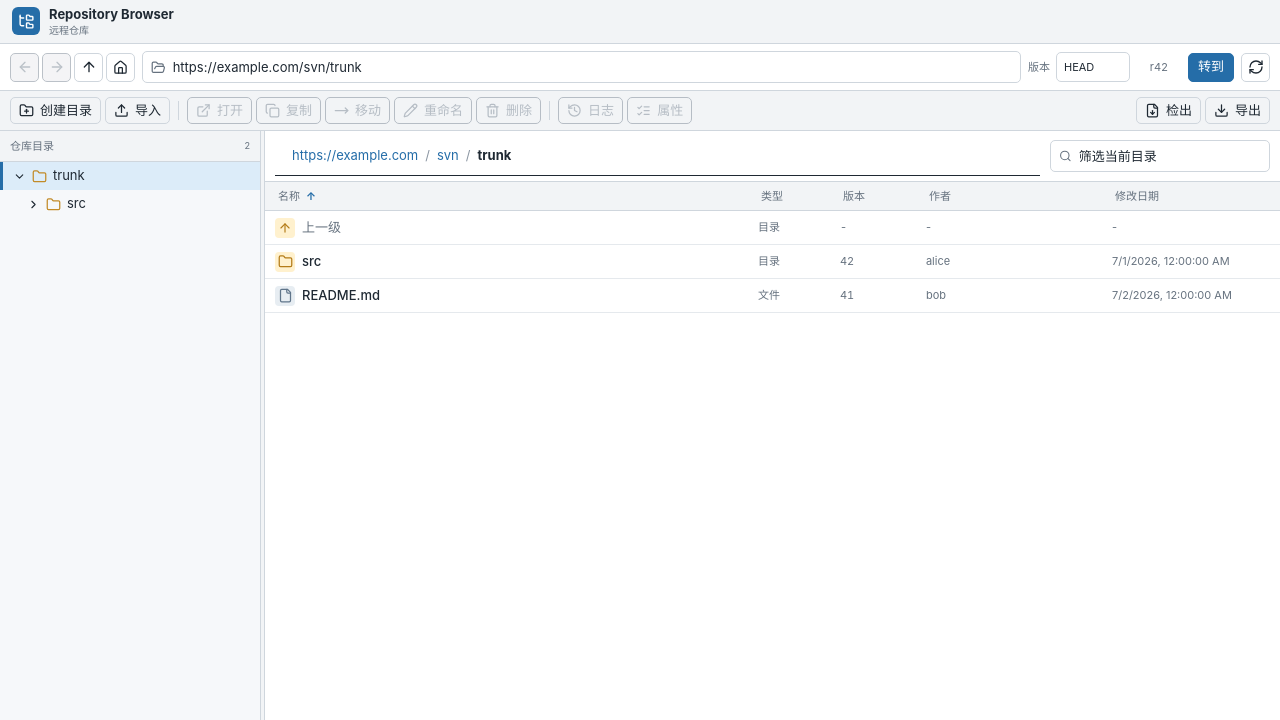
Scenario: StandaloneRepoBrowserWindow › 可筛选当前目录
This screenshot has width=1280, height=720.
Expected: the button with aria-label "打开仓库文件 README.md" is shown, left=265, top=279, right=1279, bottom=313
Type "readme" into the search field labelled "筛选当前目录" at (1172, 156), box left=1079, top=141, right=1265, bottom=171
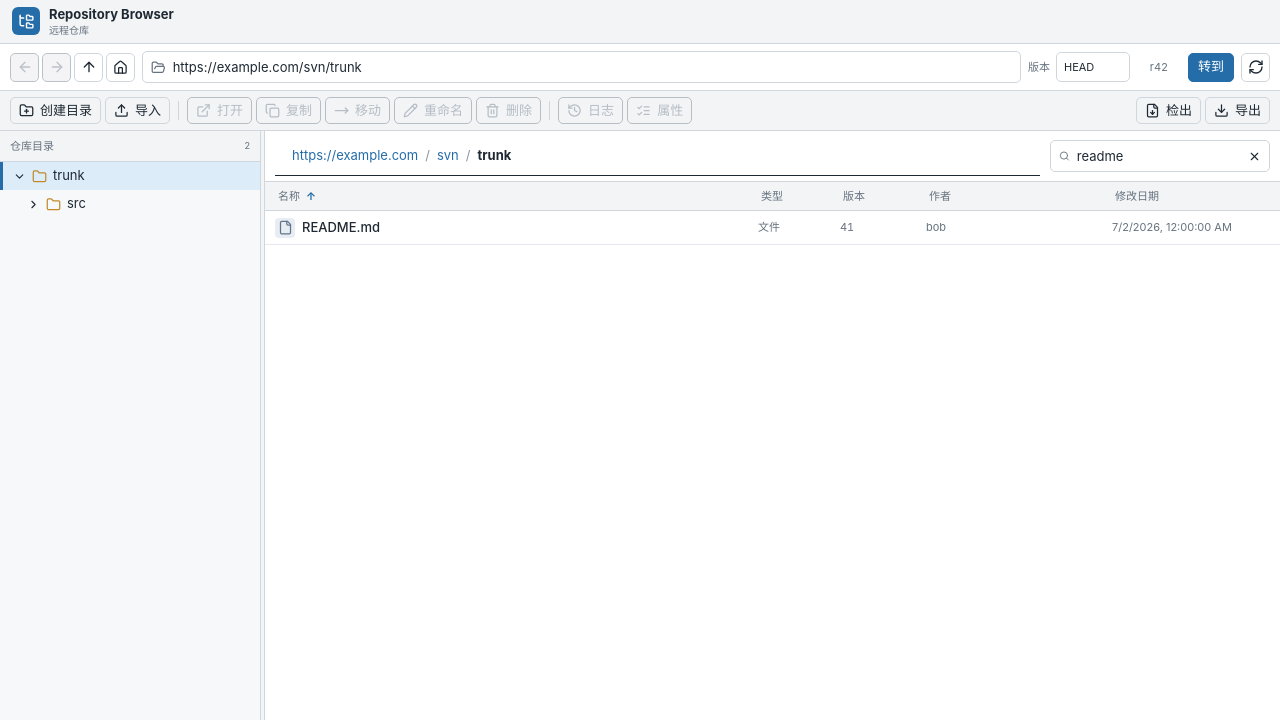
Expected: the button with aria-label "打开仓库文件 README.md" is shown, left=265, top=211, right=1279, bottom=245
Expected: the button "打开仓库目录 src" is gone
